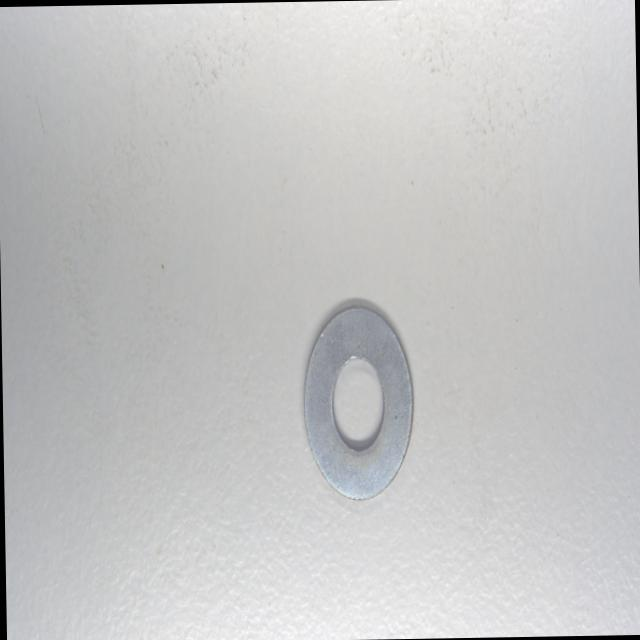washer: (299, 304, 416, 502)
